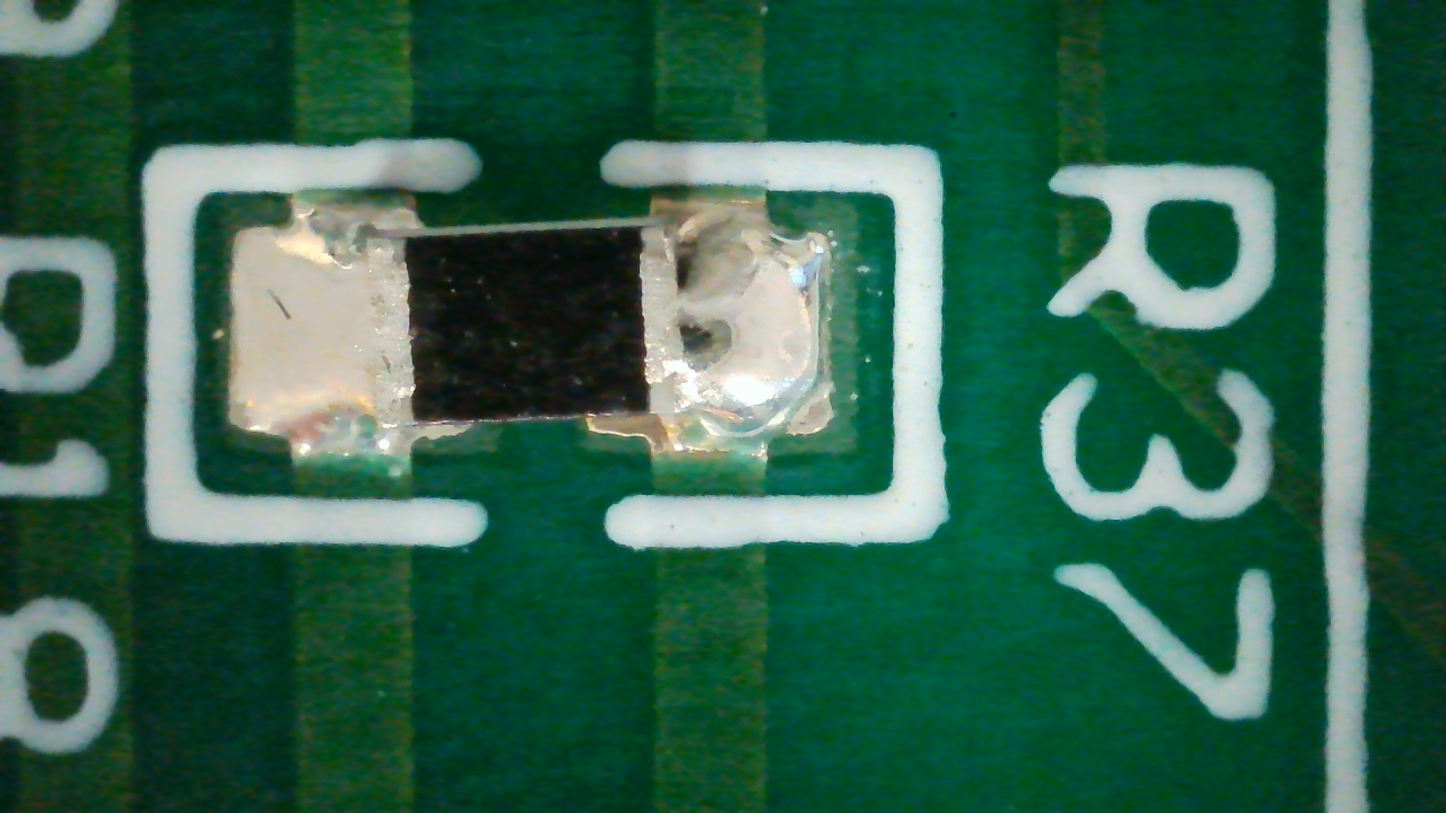NG: (230, 197, 833, 465)
